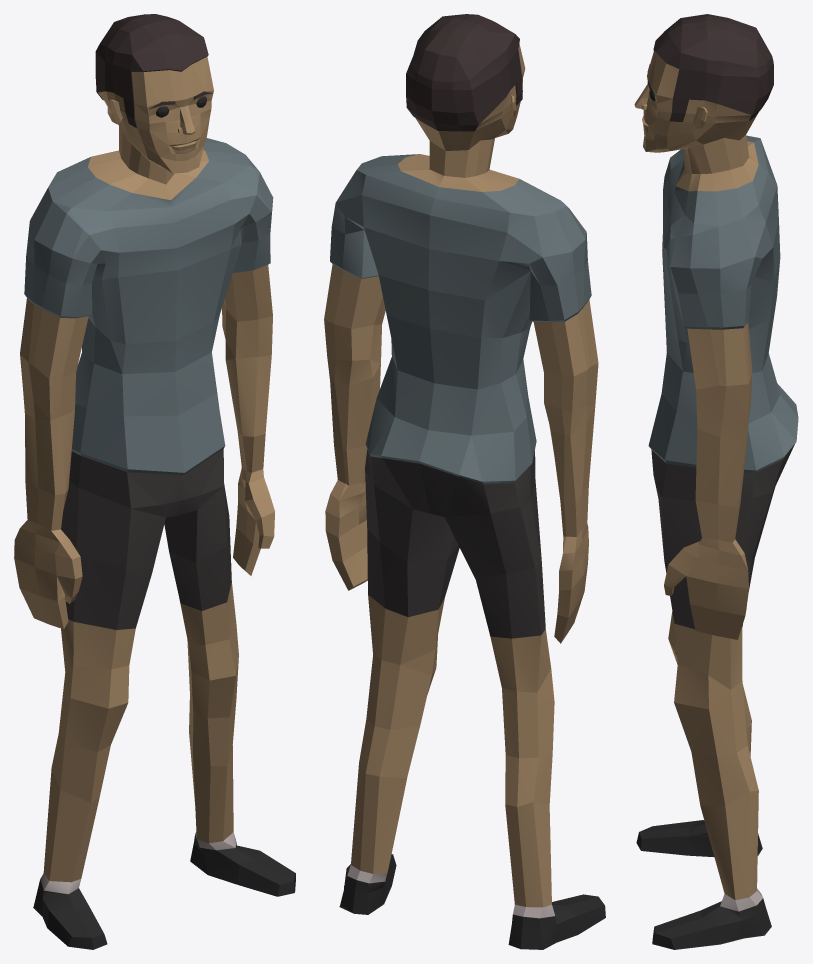
File: man-static.glb
3 renders of one model, left to right at view 1: azimuth 30°, elevation 25°; view 2: azimuth 150°, elevation 25°; view 3: azimuth 270°, elevation 25°, orthographic. The views are drawn at different scales.
Bounding box in the file's own units: 0.5193 × 1.76 × 0.3007.
